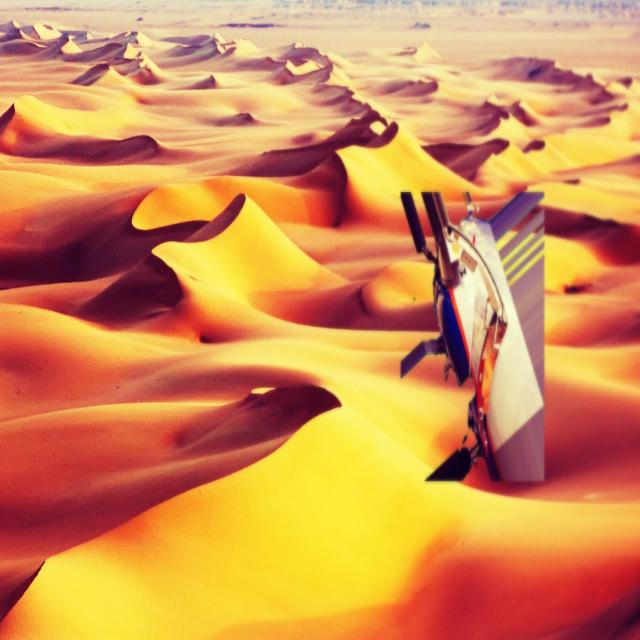airplane: (398, 187, 544, 481)
